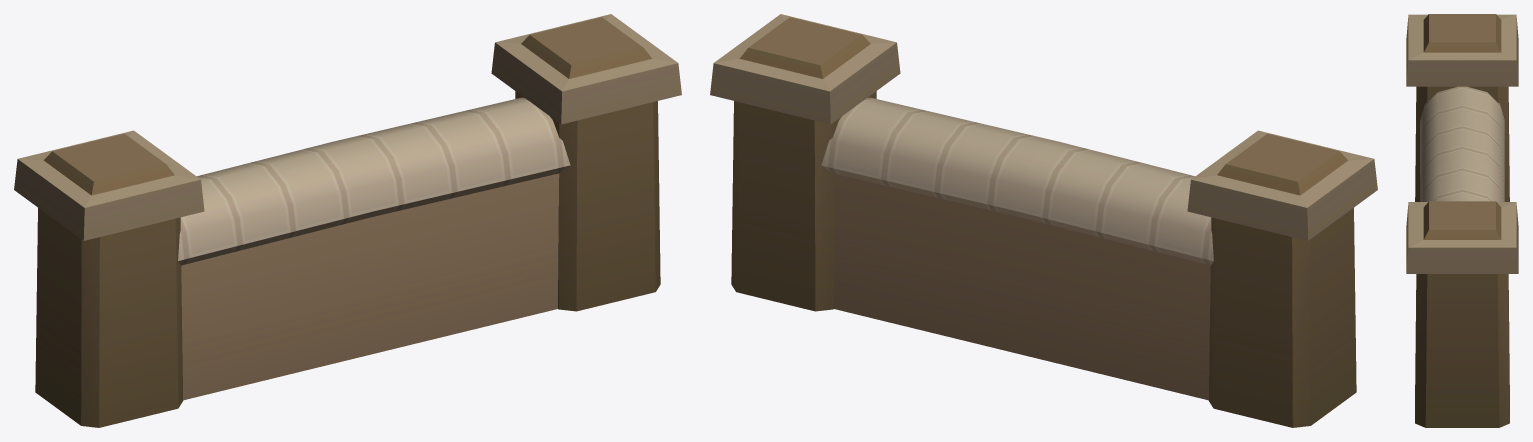
File: MESH_Muret_01.fbx
3 renders of one model, left to right at view 1: azimuth 30°, elevation 25°; view 2: azimuth 150°, elevation 25°; view 3: azimuth 270°, elevation 25°, orthographic. The views are drawn at different scales.
Visible parts, largest first — view 1: MESH_Muret_01; view 2: MESH_Muret_01; view 3: MESH_Muret_01.
Part boxes in pixels (x1,y1,x2,y2): MESH_Muret_01: (14, 14, 681, 427); MESH_Muret_01: (710, 14, 1377, 427); MESH_Muret_01: (1406, 14, 1518, 427).
Bounding box in the file's own units: 3.71 × 1.41 × 0.7481.
